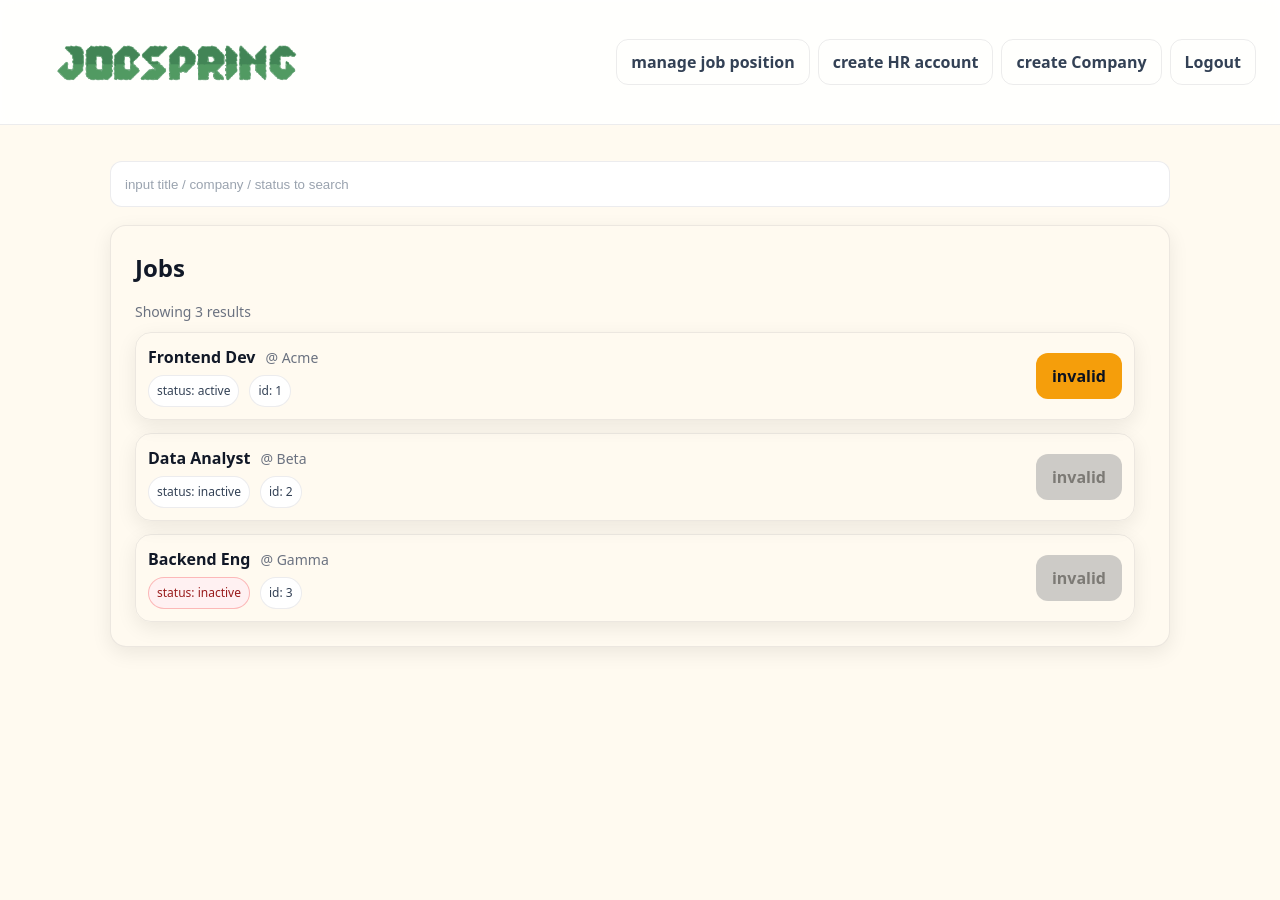
keyword search filters by title/company
Expected: the text "Showing 3 results" is shown, [135, 302, 251, 321]
Type "acme" into the field with placeholder "input title / company / status to search" at (640, 184), box [110, 161, 1170, 207]
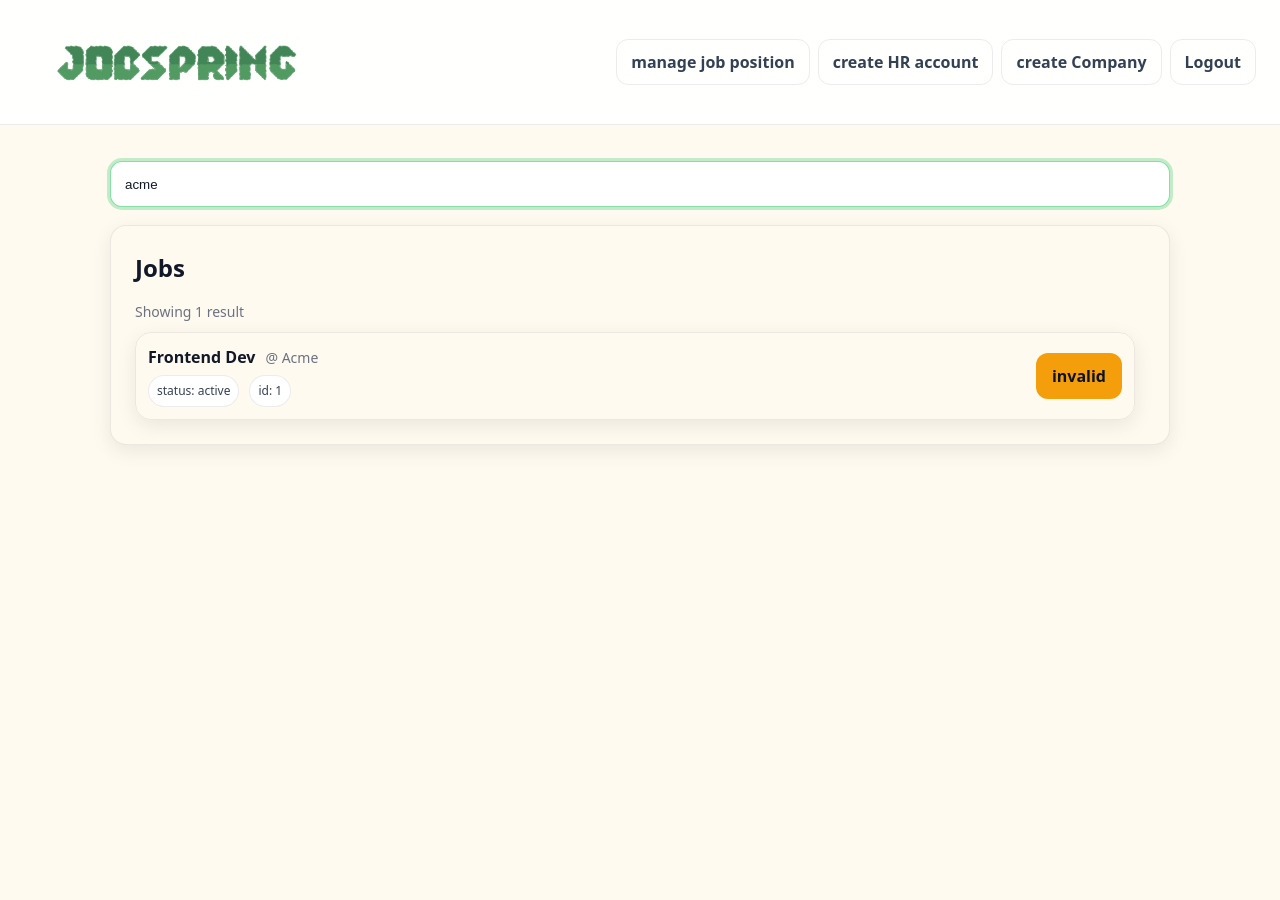
Result: the text "Showing 1 result" is shown at [135, 302, 244, 321]
Result: the text "Data Analyst" is gone
Result: the text "Backend Eng" is gone
